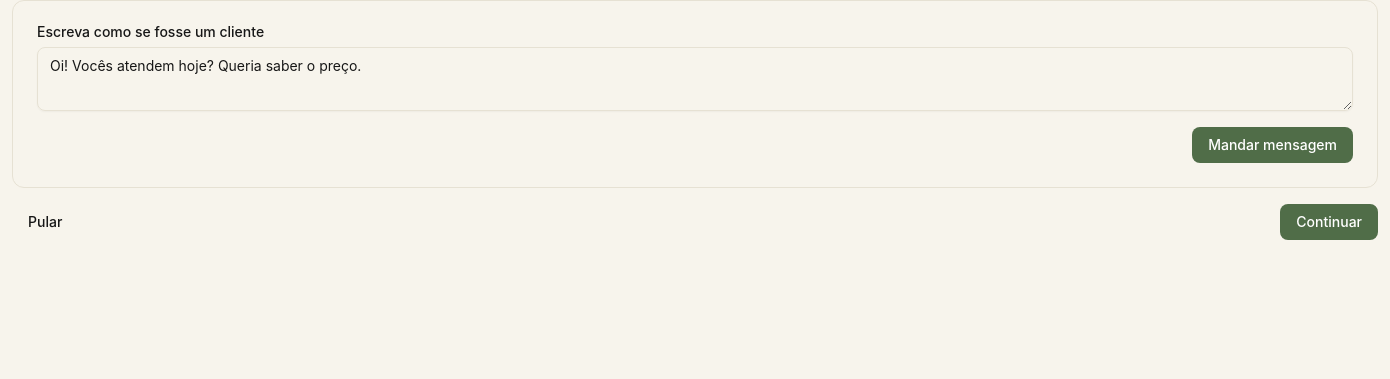
Scenario: ensaio do onboarding: o que conta como sucesso › status "failed": continua sendo erro, com o motivo à vista
Step 1. Click the button "Mandar mensagem" → (1273,145), box [1192, 127, 1353, 163]
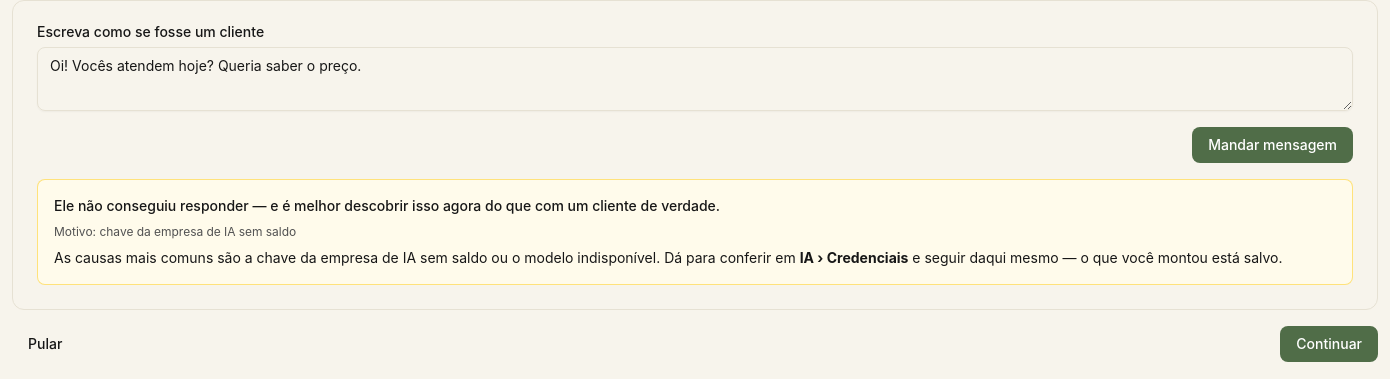
Check: the message shows "Ele não conseguiu responder", box [54, 197, 720, 214]
Check: the message shows "chave da empresa de IA sem saldo", box [99, 224, 296, 239]
